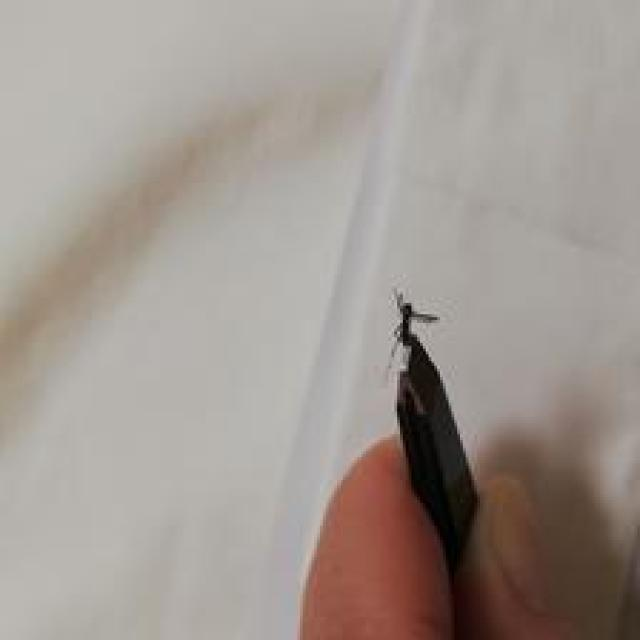Aedes albopictus: (384, 286, 482, 577)
